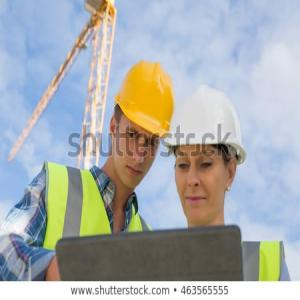white: (170, 86, 246, 225)
yellow: (109, 60, 176, 192)
